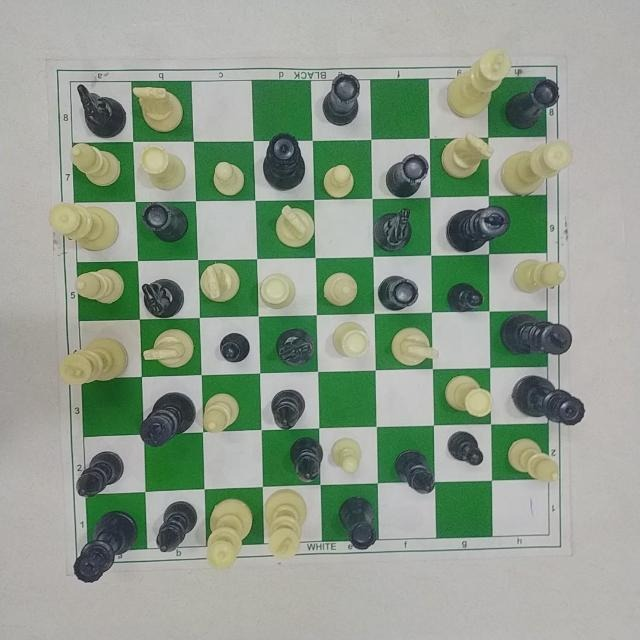black-bishop: (68, 442, 132, 501), (150, 493, 200, 554), (390, 441, 438, 493), (264, 384, 314, 433), (288, 435, 328, 485)
black-king: (134, 379, 200, 454), (496, 304, 578, 362), (438, 199, 515, 257)
black-knight: (67, 77, 133, 141), (132, 267, 194, 325), (268, 320, 325, 372), (366, 204, 421, 254)
black-pawn: (440, 422, 490, 470), (214, 325, 260, 371), (440, 276, 488, 319)
black-queen: (67, 507, 144, 588), (508, 371, 590, 434), (258, 127, 310, 191)
black-rook: (497, 72, 569, 134), (327, 489, 383, 557), (316, 67, 368, 135), (368, 261, 423, 313), (378, 149, 434, 199), (137, 198, 195, 246)
white-bishop: (502, 430, 568, 495), (64, 261, 136, 317), (504, 251, 570, 307), (65, 138, 127, 192), (198, 387, 244, 443), (317, 264, 364, 314)
white-king: (436, 39, 524, 125), (48, 334, 133, 396), (256, 478, 309, 568)
white-knight: (431, 126, 495, 182), (191, 252, 245, 313), (132, 72, 184, 134), (135, 324, 199, 372), (388, 323, 444, 375), (271, 197, 323, 250)
white-pawn: (321, 425, 377, 480), (198, 155, 256, 204), (317, 162, 365, 204)
white-queen: (498, 129, 578, 197), (46, 196, 128, 262), (204, 489, 254, 574)
white-rook: (135, 136, 193, 198), (442, 374, 499, 426), (256, 260, 304, 319), (331, 316, 381, 364)
